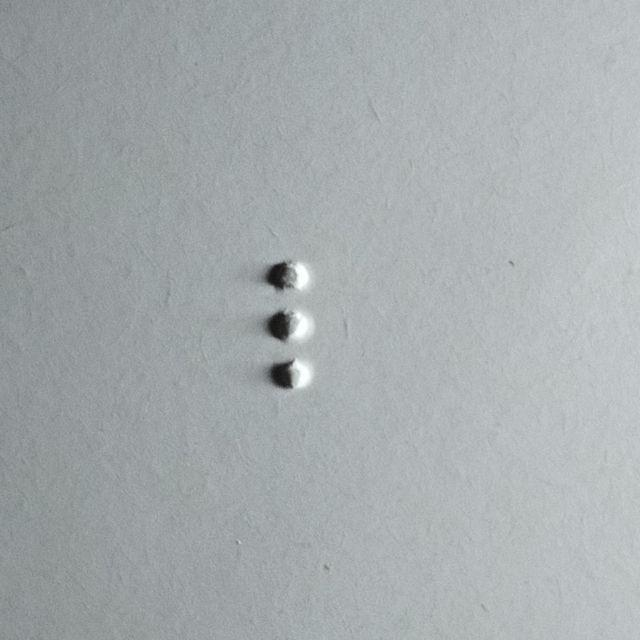lamang: (269, 256, 363, 392)
